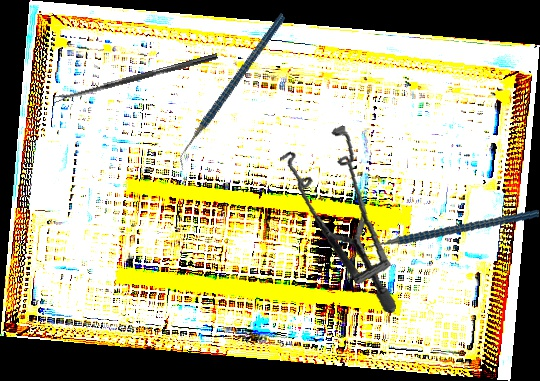Chopper: (140, 11, 325, 173), (351, 184, 540, 288)
Speculum: (261, 117, 420, 314)
Surgical Spoon: (52, 52, 219, 103)
